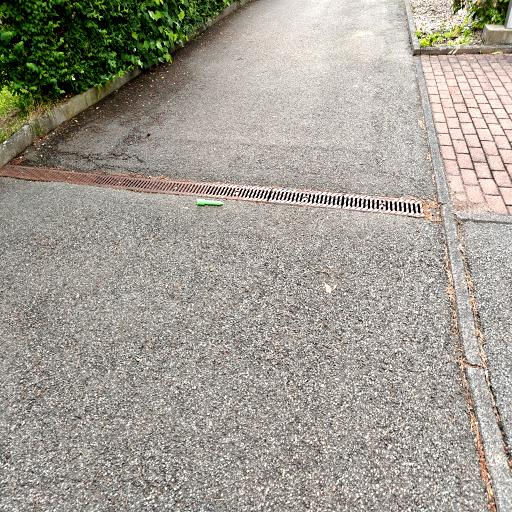Probe-Detection: (197, 199, 224, 205)
